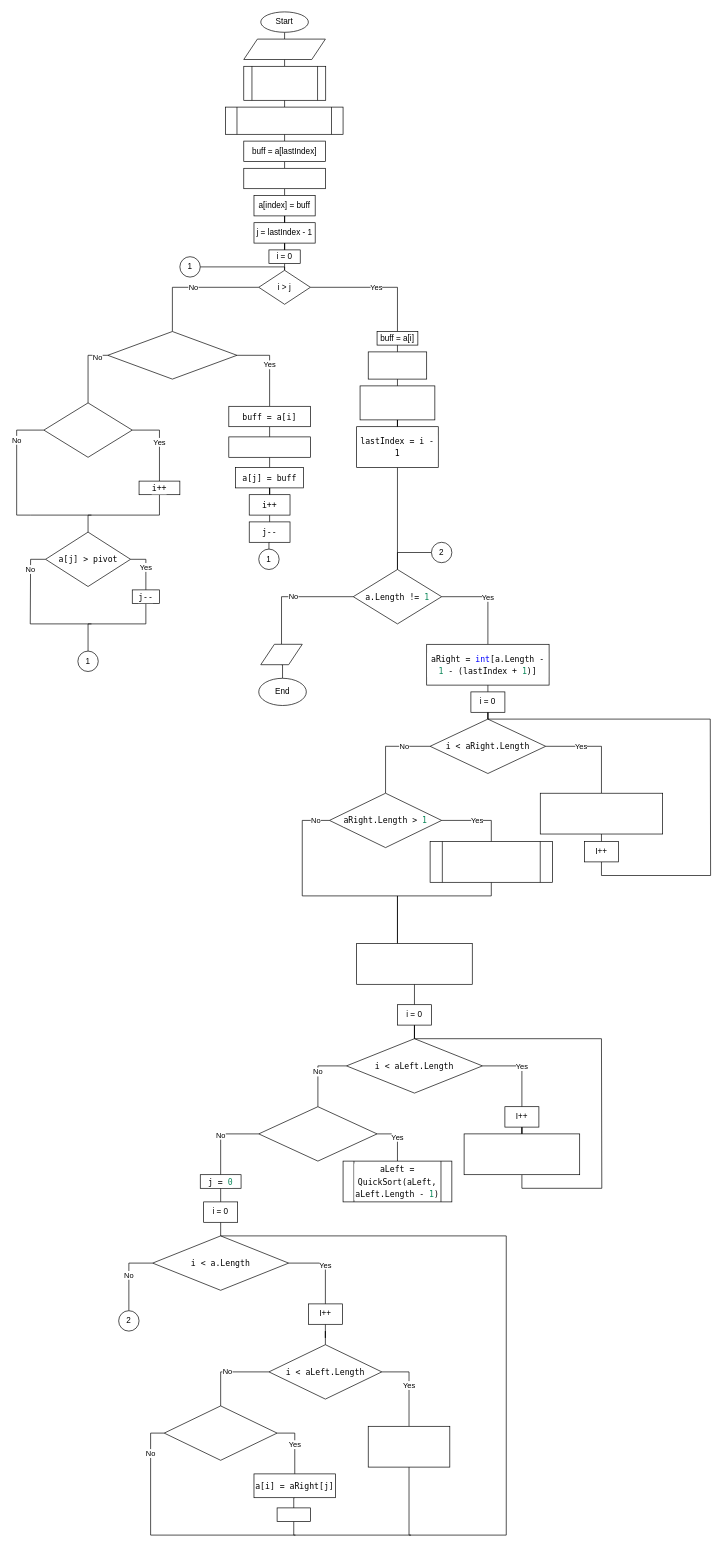
This 723x1548 diagram has some shape labels left out. The centre of each missing label's shape, as x and y in pixels:
[i] < pivot: pixel 87 429
a[]: pixel 281 654
a[], lastIndex: pixel 284 49
a[i] = a[j]: pixel 269 446
a[i] = aLeft[i]: pixel 409 1446
a[i] = pivot: pixel 397 365
a[i] > pivot && a[j] < pivot: pixel 172 355
a[lastIndex] = buff: pixel 397 402
a[lastIndex] = pivot: pixel 284 178
aLeft = int [lastIndex + 1 ]: pixel 414 963
aLeft.Length > 1: pixel 317 1133
aLeft[i] = a[i]: pixel 521 1154
aRight = QuickSort(aRight, aRight.Length - 1 ): pixel 490 861
aRight[i] = a[lastIndex + 2 + i]: pixel 601 813
i > aLeft.Length: pixel 220 1432
index = FindIndexOfPivot(pivot, a): pixel 284 120
j++: pixel 293 1514
pivot = FindPivot(a, lastIndex): pixel 284 83
